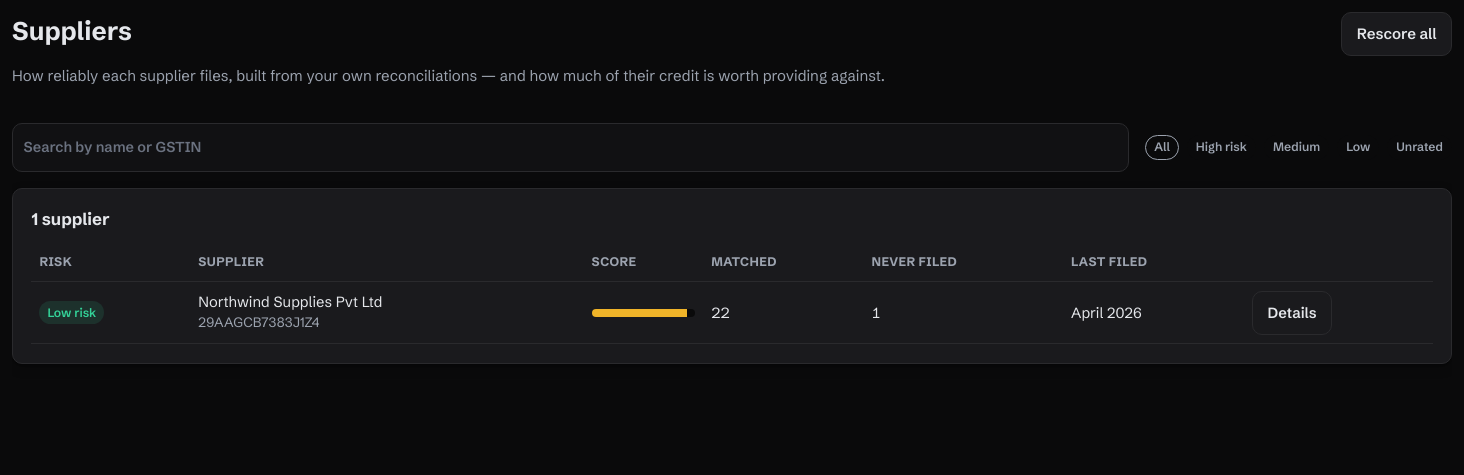
Test: SuppliersPage › when a filter matches nothing › offers a way back to the whole register
The width and height of the screenshot is (1464, 475).
In the search field: (571, 147) [12,123,1129,172], type "zzz"
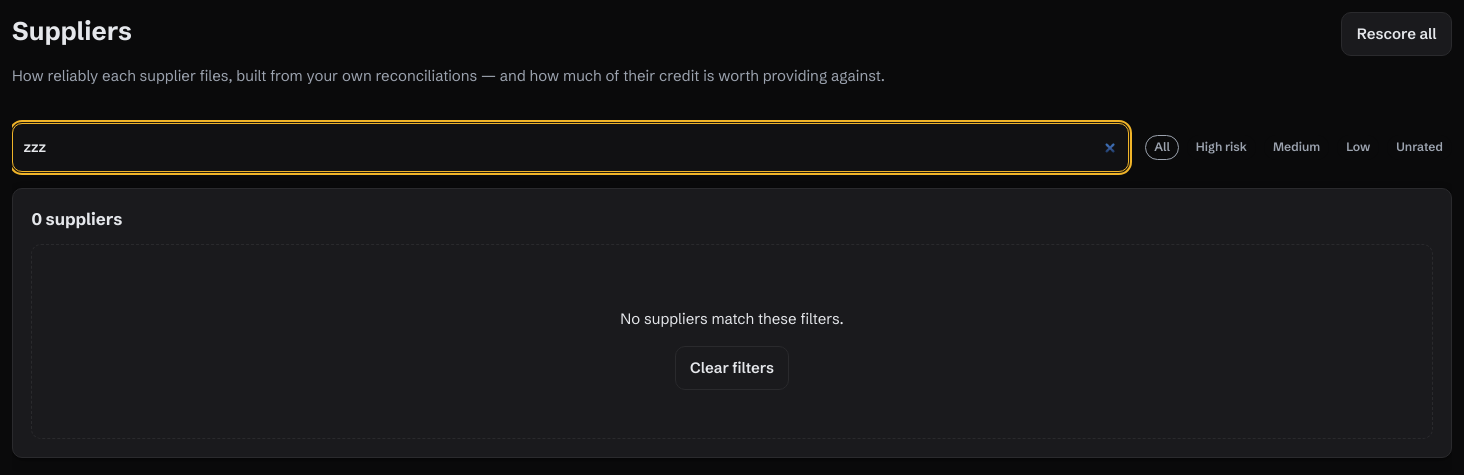
Now the text "No suppliers match these filters." is shown, box [620,310,844,328]
Click the button "Clear filters": (732, 368) [675,346,789,390]
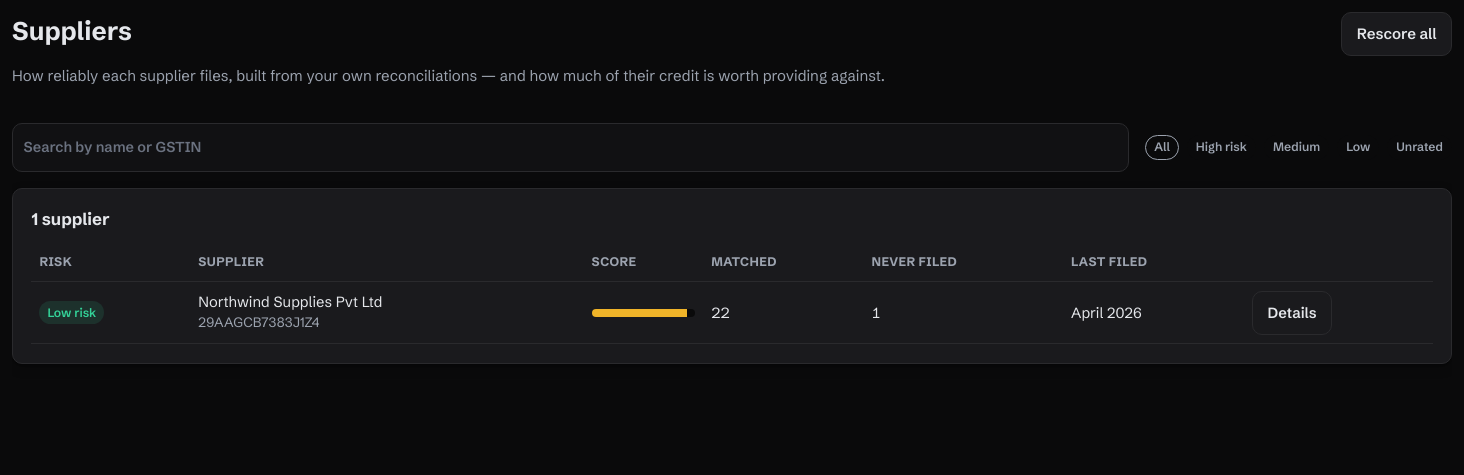
Now the text "Northwind Supplies Pvt Ltd" is shown, box [198,293,382,311]
Now the search field is empty, box [12,123,1129,172]
